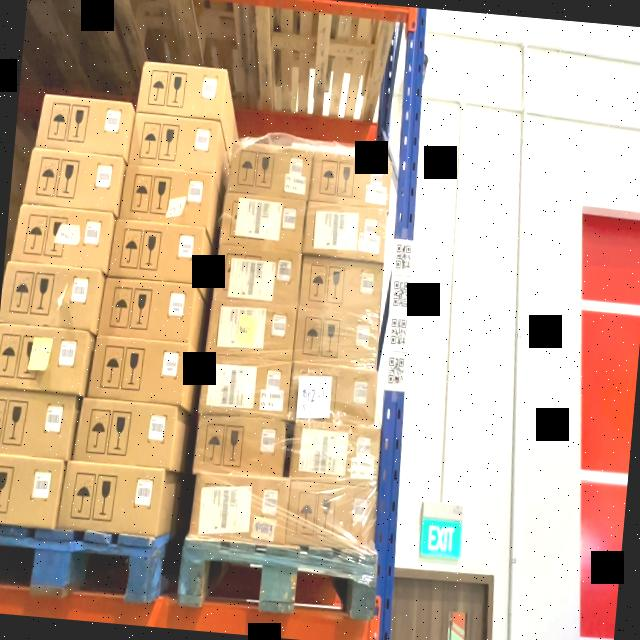box: (61, 462, 166, 536), (284, 478, 380, 552), (77, 398, 177, 468), (194, 472, 291, 544), (3, 261, 101, 330), (90, 336, 186, 404), (98, 276, 194, 343), (24, 146, 121, 212), (0, 322, 90, 393), (13, 206, 112, 270), (195, 412, 287, 479), (36, 94, 132, 158), (202, 356, 294, 420), (292, 420, 381, 486), (0, 388, 79, 461), (215, 244, 302, 309), (122, 166, 214, 226), (110, 222, 199, 283), (289, 364, 379, 424), (132, 113, 220, 172), (140, 62, 228, 120), (210, 300, 297, 358), (294, 308, 379, 366), (299, 257, 384, 315), (304, 202, 388, 260), (222, 192, 306, 250), (231, 142, 314, 200), (0, 453, 63, 525), (309, 154, 389, 208)
